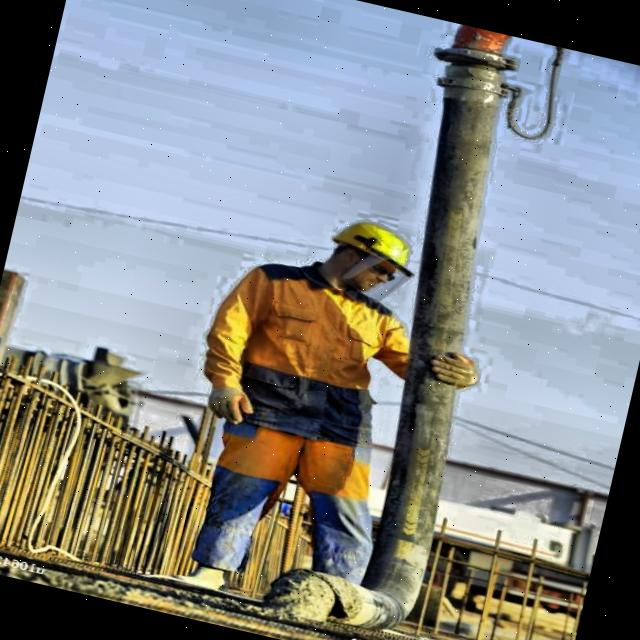helmet: (312, 209, 423, 301)
